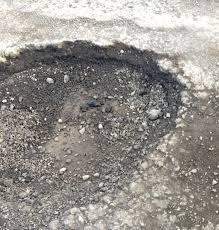pothole: (0, 39, 188, 223)
